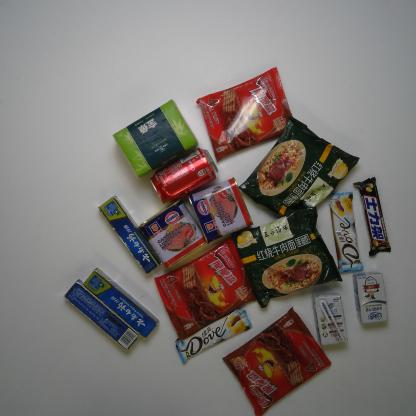Canned Food: (137, 196, 208, 269), (187, 176, 254, 246)
Chocolate: (174, 306, 253, 365), (353, 176, 391, 258), (330, 191, 364, 274)
Dessert: (221, 306, 331, 416), (152, 235, 259, 340), (196, 66, 293, 162)
Drink: (150, 147, 219, 205)
Instant Noodles: (238, 115, 360, 219), (229, 206, 344, 309)
Milk: (310, 290, 348, 346), (353, 270, 388, 324)
Personal Hygiene: (64, 279, 141, 350), (83, 268, 159, 339), (98, 195, 162, 275)
Tissue: (112, 99, 198, 178)
